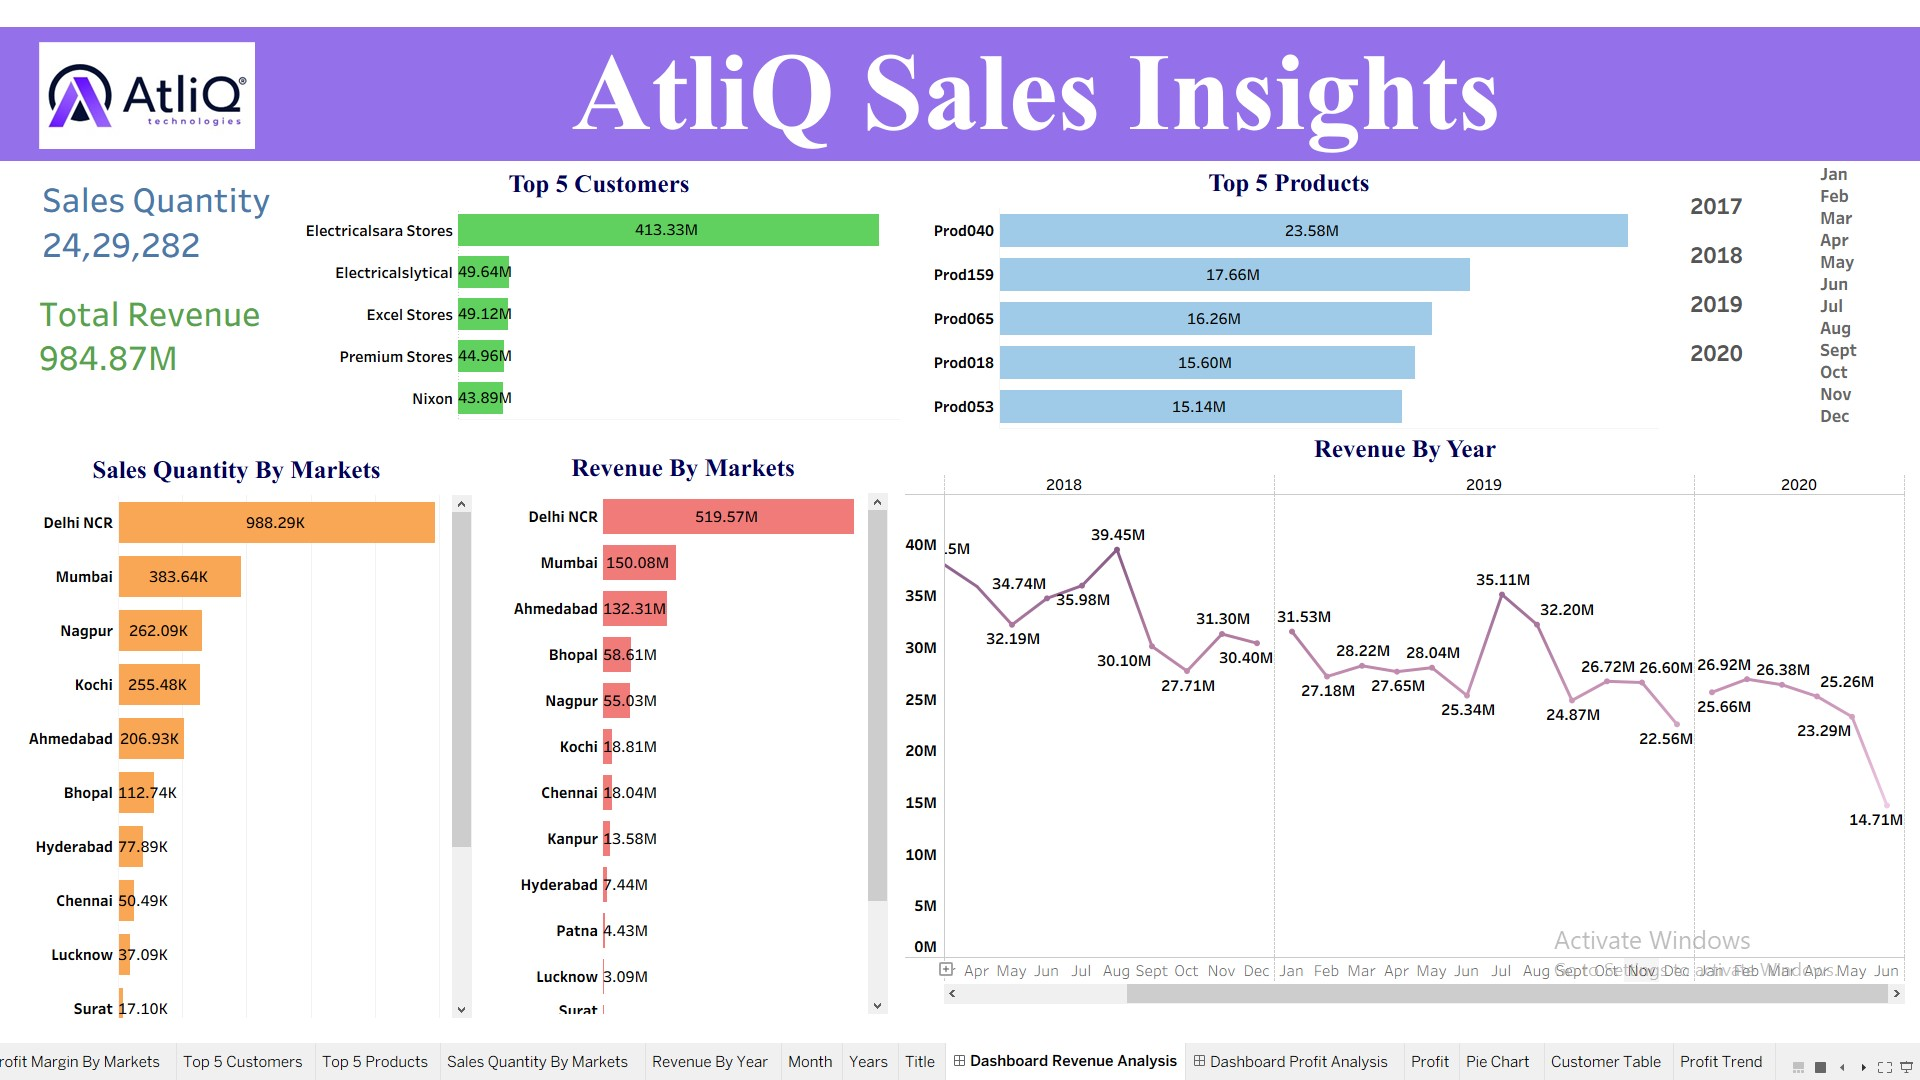

Layout of this report page (visuals, bound fields, positions):
{"tool":"tableau","page":{"name":"Dashboard Revenue Analysis","canvas":[1880,1000],"ordinal":1},"visuals":[{"type":"image","param":"C:/Users/win10/Desktop/AtliQ.jpg","box":[19,21,223,107]},{"type":"worksheet","title":"Month","mark":"Automatic","rows":["cy_date"],"box":[1794,141,78,294]},{"type":"worksheet","title":"Quantity","mark":"Automatic","box":[18,142,293,120]},{"type":"worksheet","title":"Top 5 Products","mark":"Automatic","rows":["product_code (products)"],"cols":["Calculation_266838308006653952"],"box":[899,144,740,270]},{"type":"worksheet","title":"Top 5 Customers","mark":"Automatic","rows":["custmer_name"],"cols":["Calculation_266838308006653952"],"box":[278,145,602,266]},{"type":"worksheet","title":"Years","mark":"Automatic","rows":["cy_date"],"box":[1648,160,89,281]},{"type":"worksheet","title":"Revenue","mark":"Automatic","box":[15,254,298,114]},{"type":"worksheet","title":"Revenue By Year","mark":"Automatic","rows":["Calculation_266838308006653952"],"cols":["cy_date","cy_date"],"box":[885,410,1000,573]},{"type":"worksheet","title":"Revenue By Markets","mark":"Automatic","rows":["markets_name"],"cols":["Calculation_266838308006653952"],"box":[479,429,389,564]},{"type":"worksheet","title":"Sales Quantity By Markets","mark":"Automatic","rows":["markets_name"],"cols":["sales_qty"],"box":[2,431,450,566]}]}

Visuals, with their boxes on the page's 1880x1000 design canvas (x1, y1, x2, y2). These are canvas units, not pixel positions in the 1920x1080 screenshot, which may show the page scaled, cropped or inside an application window:
image: <region>19, 21, 242, 128</region>
"Month" worksheet: <region>1794, 141, 1872, 435</region>
"Quantity" worksheet: <region>18, 142, 311, 262</region>
"Top 5 Products" worksheet: <region>899, 144, 1639, 414</region>
"Top 5 Customers" worksheet: <region>278, 145, 880, 411</region>
"Years" worksheet: <region>1648, 160, 1737, 441</region>
"Revenue" worksheet: <region>15, 254, 313, 368</region>
"Revenue By Year" worksheet: <region>885, 410, 1885, 983</region>
"Revenue By Markets" worksheet: <region>479, 429, 868, 993</region>
"Sales Quantity By Markets" worksheet: <region>2, 431, 452, 997</region>
